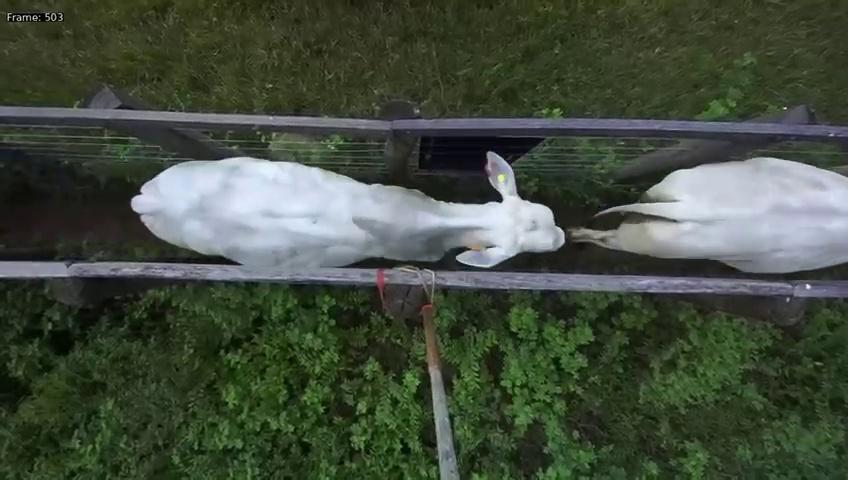cattle: (127, 135, 566, 270)
